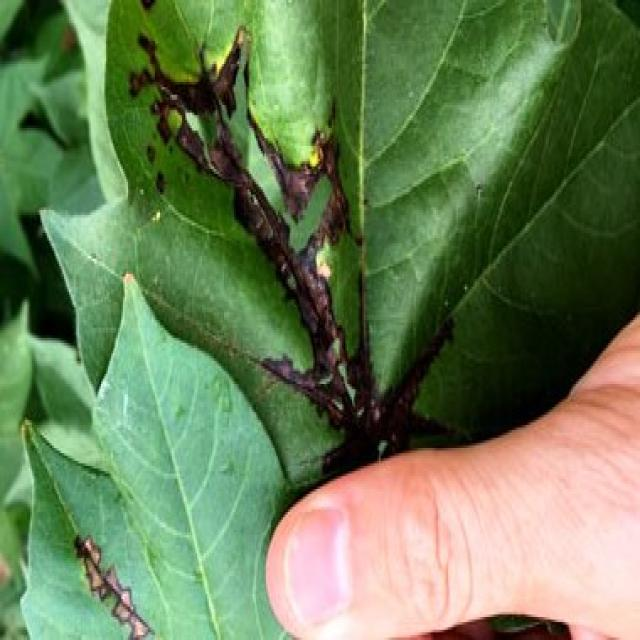Bacterial Blight: (139, 50, 402, 470)
